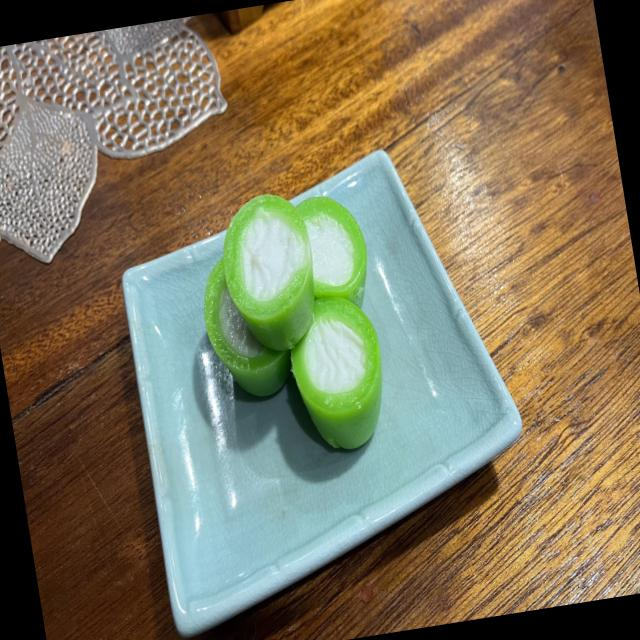nona-manis: (223, 195, 315, 351), (291, 296, 382, 449), (204, 259, 292, 397), (298, 196, 367, 307)
